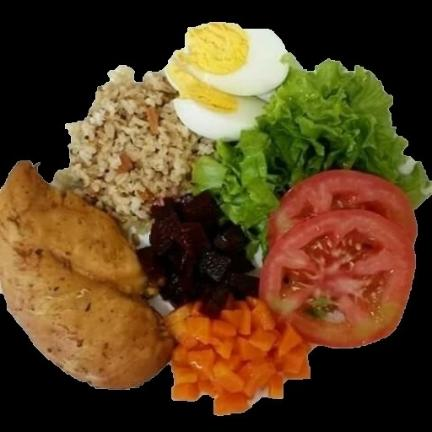beans: (138, 193, 259, 318)
carrot: (166, 297, 312, 415)
chicken: (0, 162, 174, 388)
egg: (165, 23, 290, 141)
rice: (57, 65, 213, 233)
salad: (193, 56, 431, 257)
tomato: (260, 170, 417, 347)
